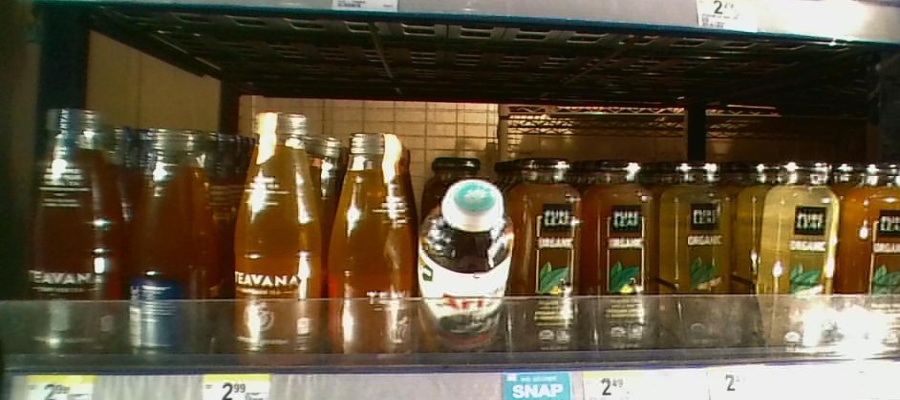bottle: (233, 107, 328, 370), (27, 104, 119, 366), (124, 124, 212, 369), (331, 118, 416, 364), (420, 176, 517, 354), (758, 156, 840, 360), (660, 157, 734, 355), (588, 152, 657, 355), (519, 157, 586, 360), (842, 159, 900, 358)
